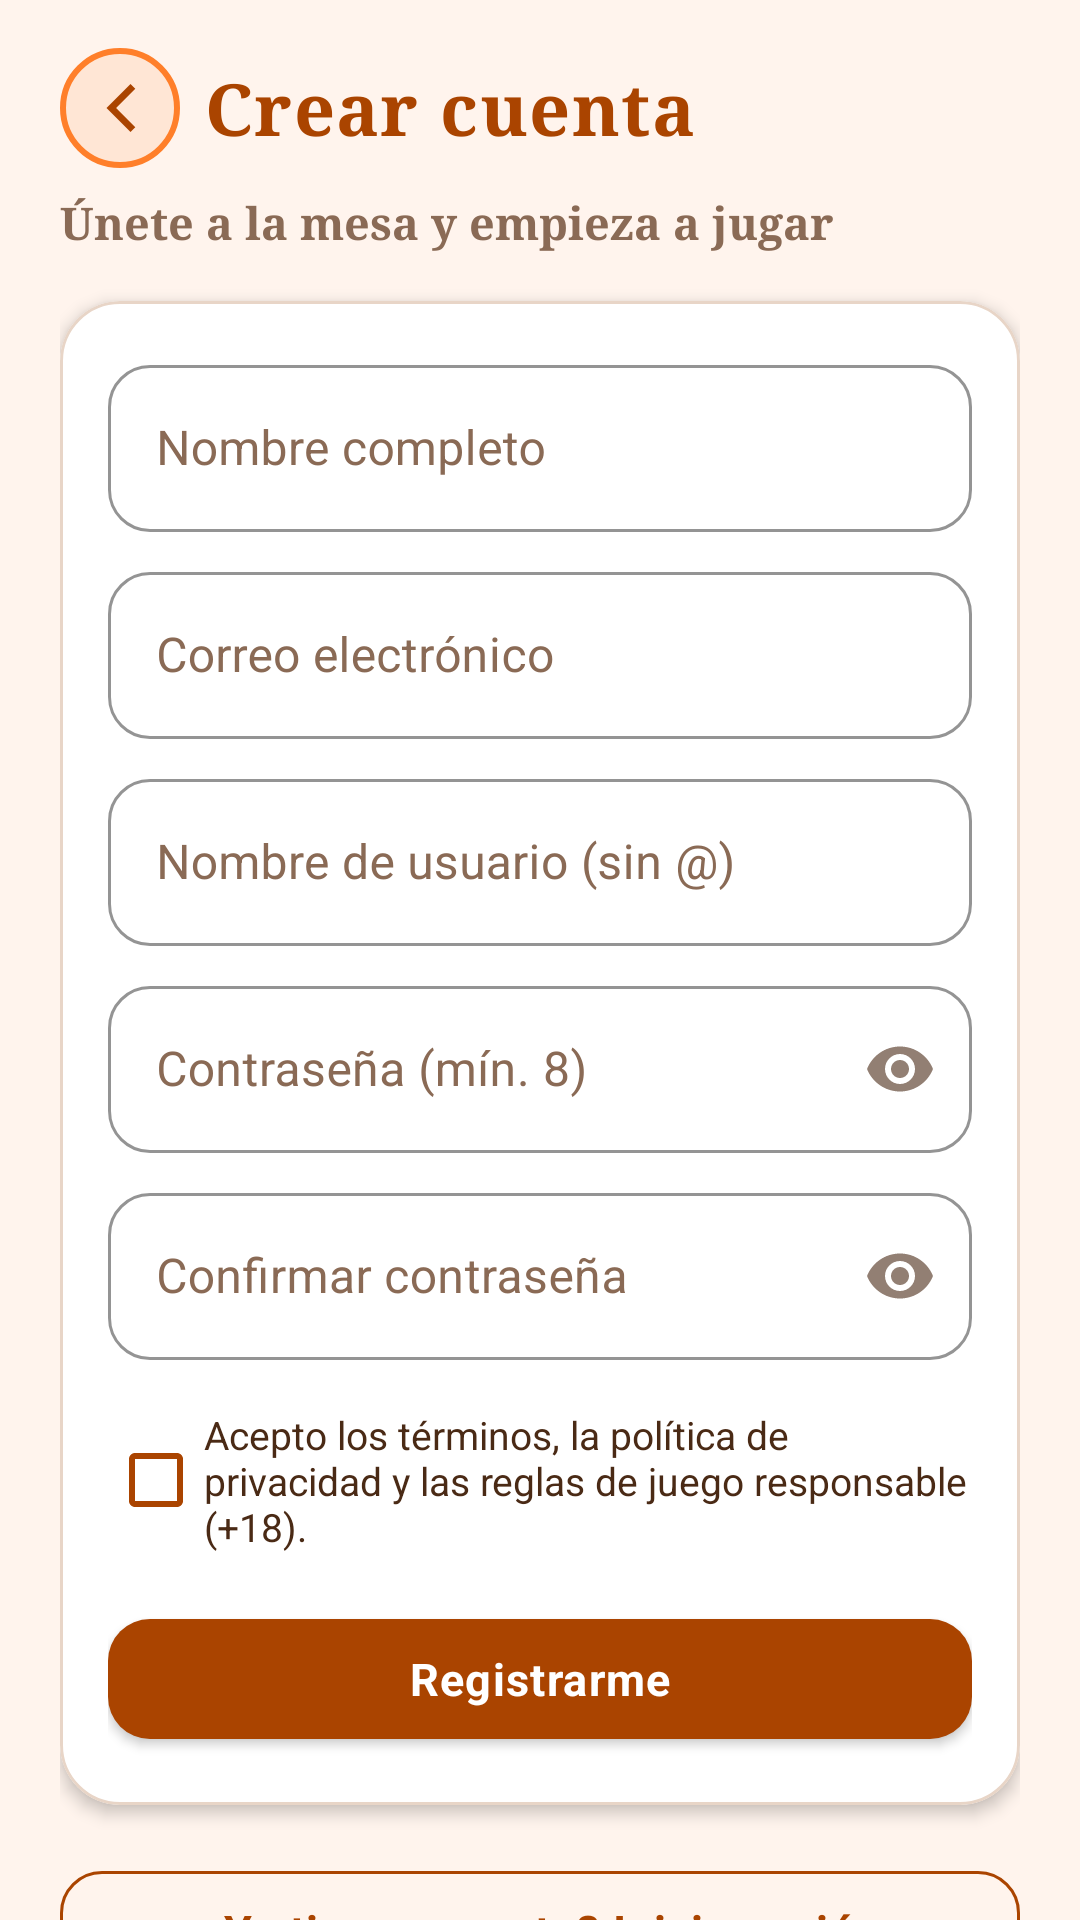

Locate icon controls on the screen. Image size 1080 x 1920, boxes as [x1=x1, y1=y1, x2=x2, y2=y2].
Regresar: [x1=60, y1=48, x2=180, y2=168]
